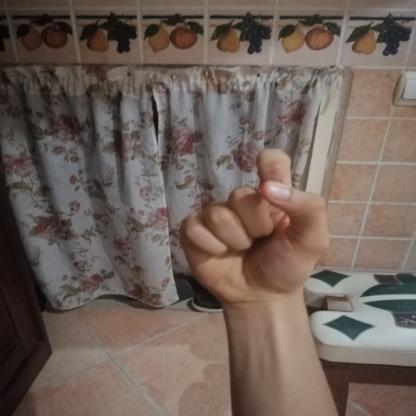FAA: (159, 140, 344, 318)
